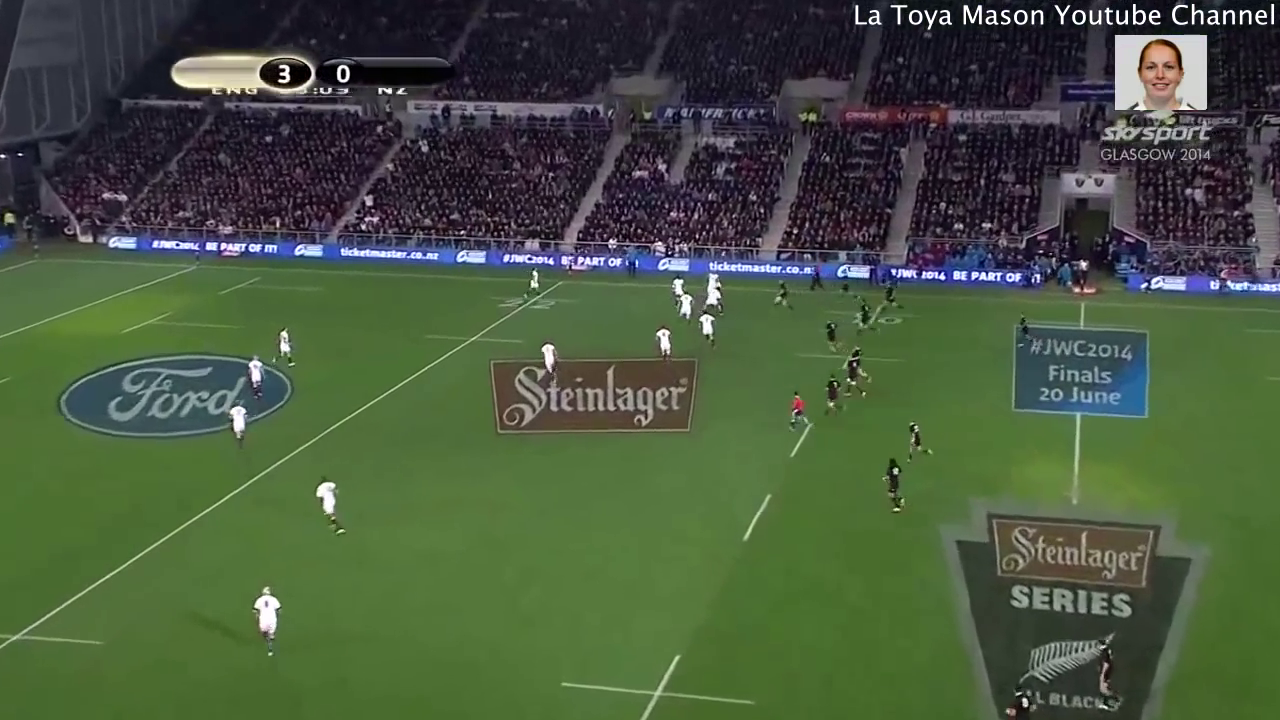10_metre: (560, 642, 776, 720), (790, 329, 906, 376), (816, 291, 925, 329)
player: (251, 581, 290, 669), (313, 474, 350, 545), (877, 456, 910, 520), (835, 357, 873, 405), (269, 321, 301, 376), (903, 418, 937, 466), (853, 294, 884, 342), (242, 352, 269, 403), (846, 343, 877, 387), (225, 395, 249, 450), (787, 388, 812, 437), (820, 316, 849, 358), (539, 339, 563, 389), (820, 370, 843, 421), (517, 263, 545, 304), (877, 274, 903, 316), (694, 309, 718, 353), (653, 322, 675, 367), (771, 273, 796, 310), (703, 284, 724, 324), (1012, 312, 1033, 351), (678, 288, 693, 325), (667, 274, 685, 303), (706, 267, 721, 297)
